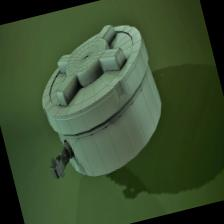PMN2: (11, 12, 190, 197)
